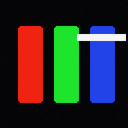3 line_h: (77, 34, 125, 40)
